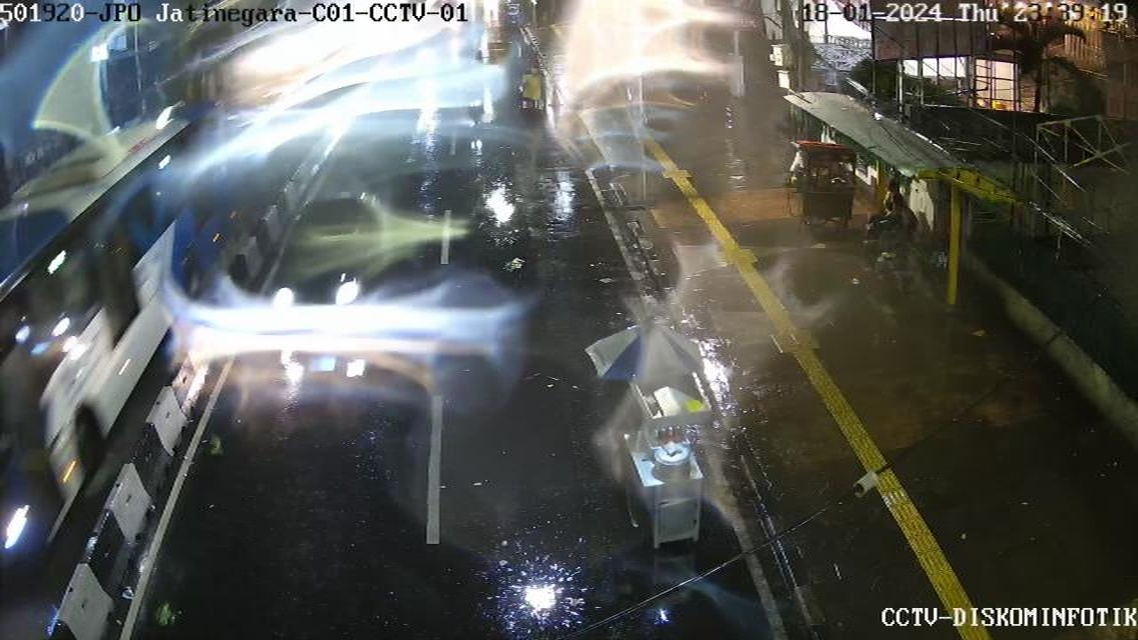Gerobak: (775, 122, 878, 260)
